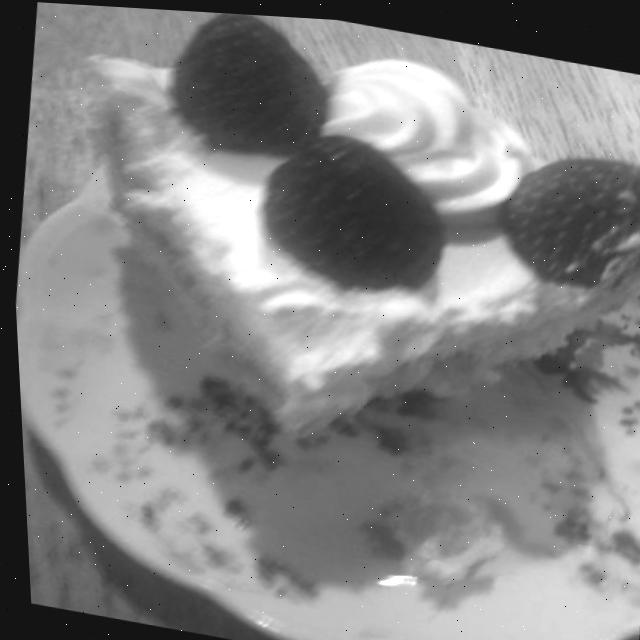蛋糕甜品: (0, 0, 640, 635)
